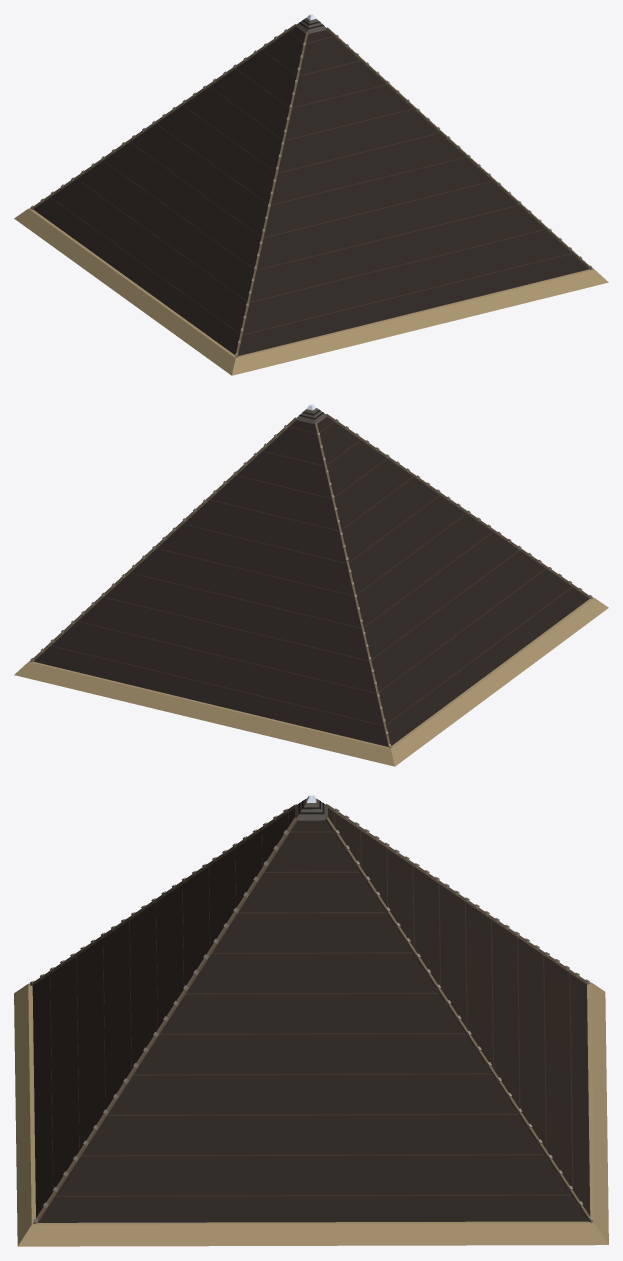
File: luxor.glb
3 renders of one model, top to bottom at view 1: azimuth 30°, elevation 25°; view 2: azimuth 150°, elevation 25°; view 3: azimuth 270°, elevation 25°, orthographic. The views are drawn at different scales.
Parts seen in each view (by area): view 1: Luxor; view 2: Luxor; view 3: Luxor.
Part boxes in pixels (x1=…): Luxor: x1=14, y1=14, x2=608, y2=375; Luxor: x1=14, y1=404, x2=608, y2=766; Luxor: x1=14, y1=795, x2=608, y2=1246.
Size of the model in its own units: 191 by 113 by 189.
